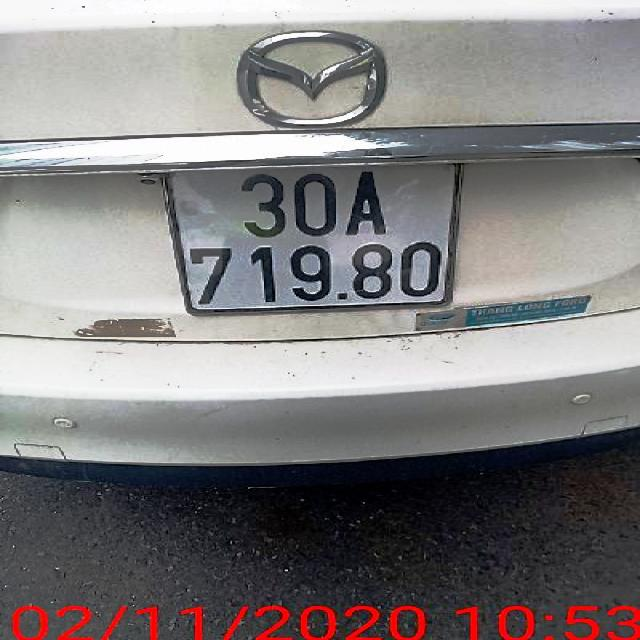license_plate: (167, 164, 456, 312)
